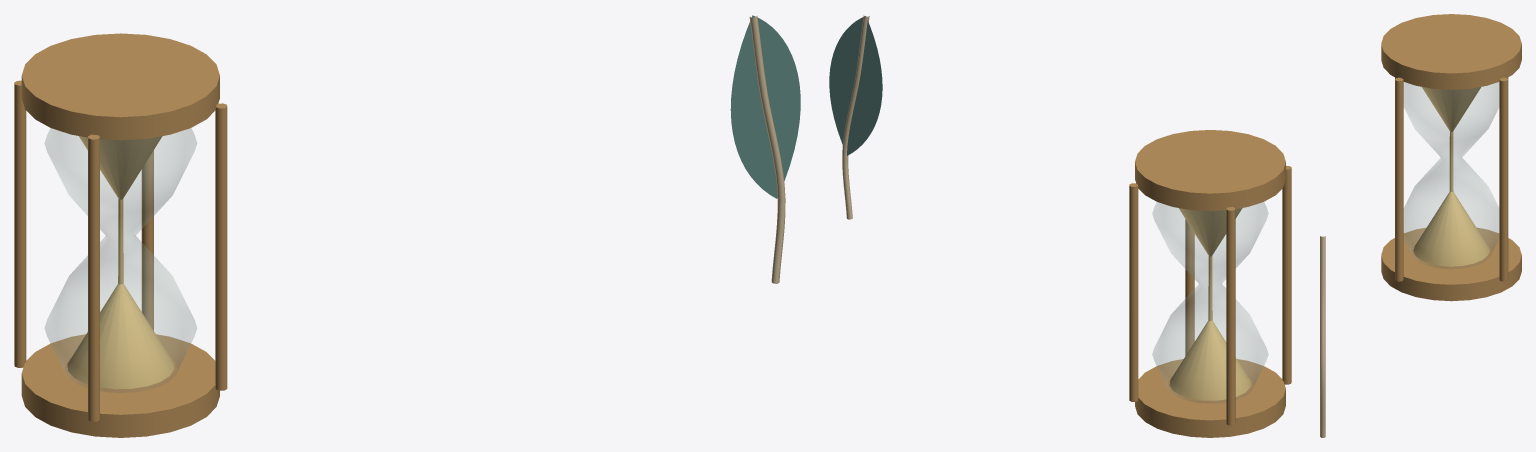
Rendered from focus-desk.glb.
The picture shows the model from 3 angles, left to right: view 1: azimuth 30°, elevation 25°; view 2: azimuth 150°, elevation 25°; view 3: azimuth 270°, elevation 25°; orthographic projection. The views are drawn at different scales.
Visible parts, largest first — view 1: Desk ritual, Hourglass, Desk quill, Bottom, Top; view 2: Desk ritual, Hourglass, Desk quill, Bottom, Top; view 3: Desk ritual, Hourglass, Bottom, Top, Desk quill, Stream.
Part boxes in pixels (x1=…): Desk ritual: x1=14, y1=33, x2=227, y2=437; Hourglass: x1=44, y1=128, x2=196, y2=392; Desk quill: x1=730, y1=15, x2=800, y2=283; Bottom: x1=67, y1=283, x2=174, y2=389; Top: x1=79, y1=136, x2=162, y2=199; Desk ritual: x1=1129, y1=130, x2=1291, y2=437; Hourglass: x1=1152, y1=202, x2=1268, y2=402; Desk quill: x1=829, y1=15, x2=882, y2=219; Bottom: x1=1169, y1=320, x2=1250, y2=400; Top: x1=1179, y1=208, x2=1242, y2=256; Desk ritual: x1=1381, y1=14, x2=1521, y2=301; Hourglass: x1=1404, y1=82, x2=1498, y2=268; Bottom: x1=1413, y1=191, x2=1489, y2=266; Top: x1=1422, y1=87, x2=1480, y2=131; Desk quill: x1=1320, y1=236, x2=1325, y2=437; Stream: x1=1449, y1=131, x2=1453, y2=192.
Bounding box in the file's own units: 1.38 × 0.625 × 0.502.
